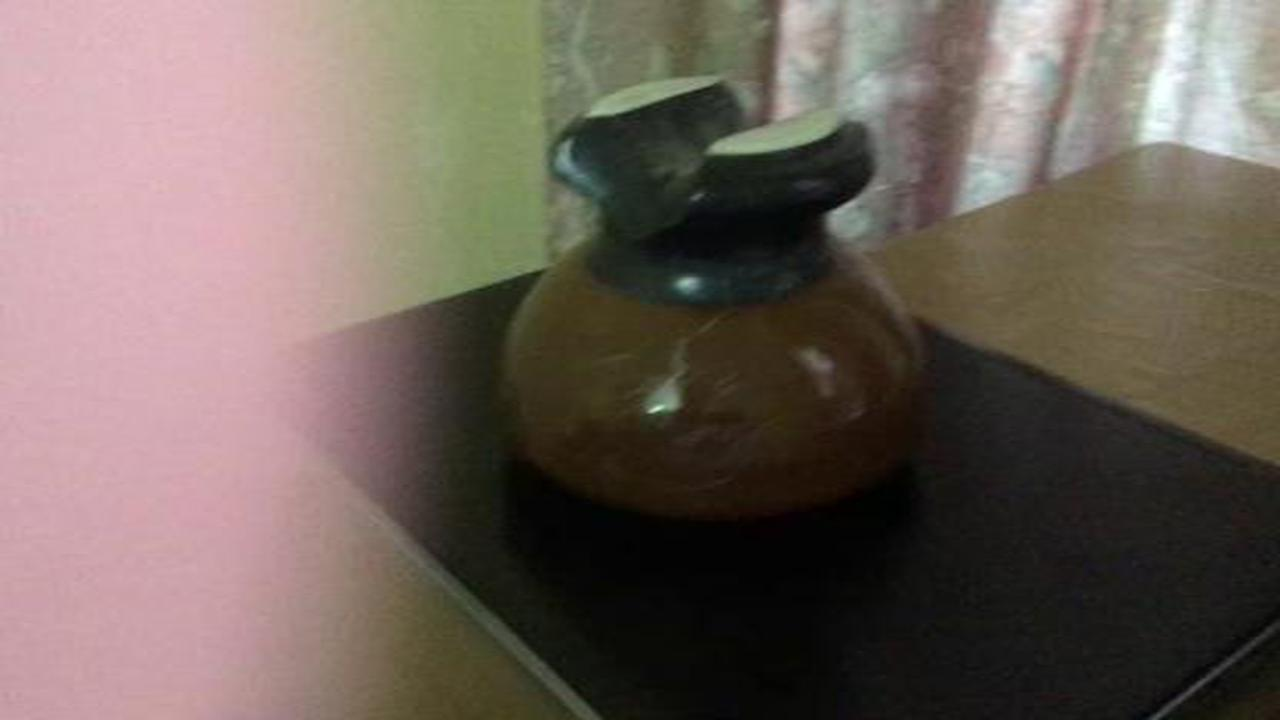insulator_pin: (477, 61, 957, 549)
